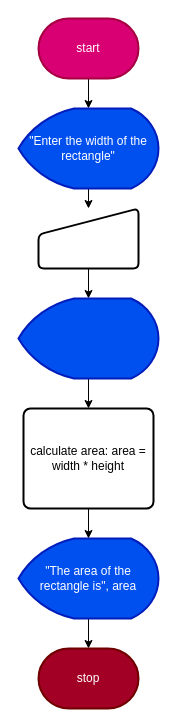
The diagram is 176 pixels wide and 726 high, and some of its shapes have lost their labels. The centre of each missing label's shape, as x and y in pixels:
"Enter the height of the rectangle": point (88, 338)
Read width input: point (88, 238)
